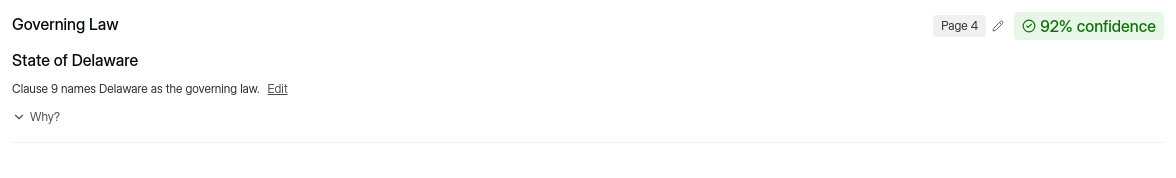
Test: edit affordances (spec 07 v1.1 §D) › offers a pencil to edit the page number
Click the button named "Edit page number".
click(998, 26)  # box [990,18,1006,34]
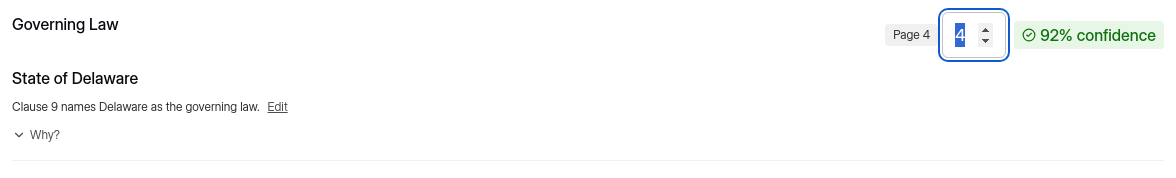
Expected: the number field named "page number" is shown, [942,12,1006,58]
